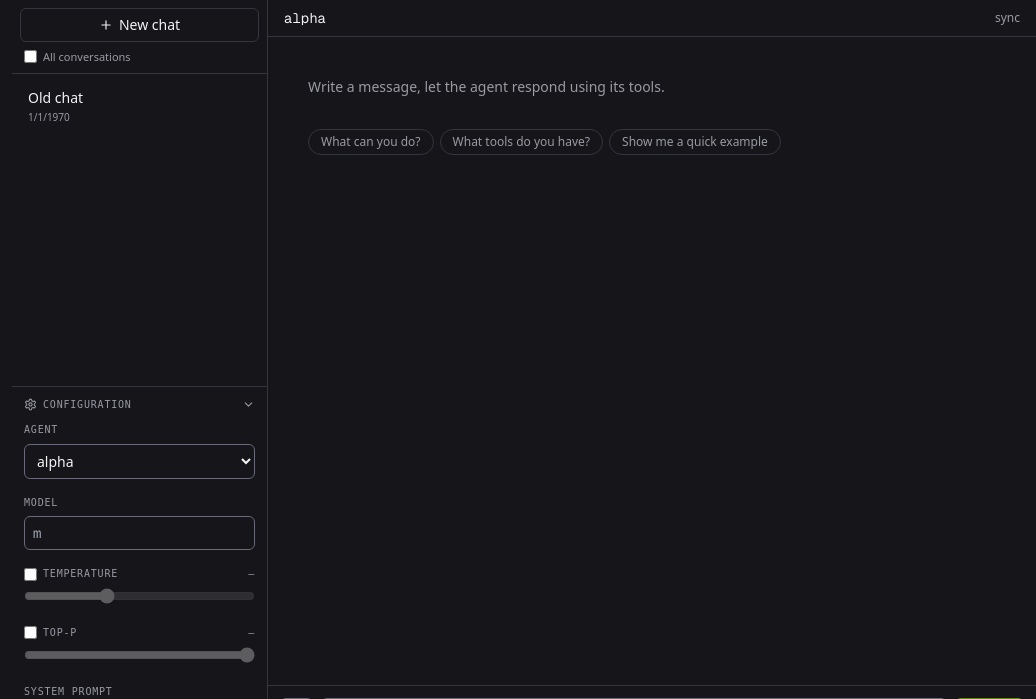
it: studio-ui components › Playground: the transcript renders unconditionally visible (no motion-gated opacity)
The width and height of the screenshot is (1036, 699).
What coordinates should you click on to do the following:
click the text "Old chat"
I would click on:
 (56, 98)
Its box is [28,88,83,107].
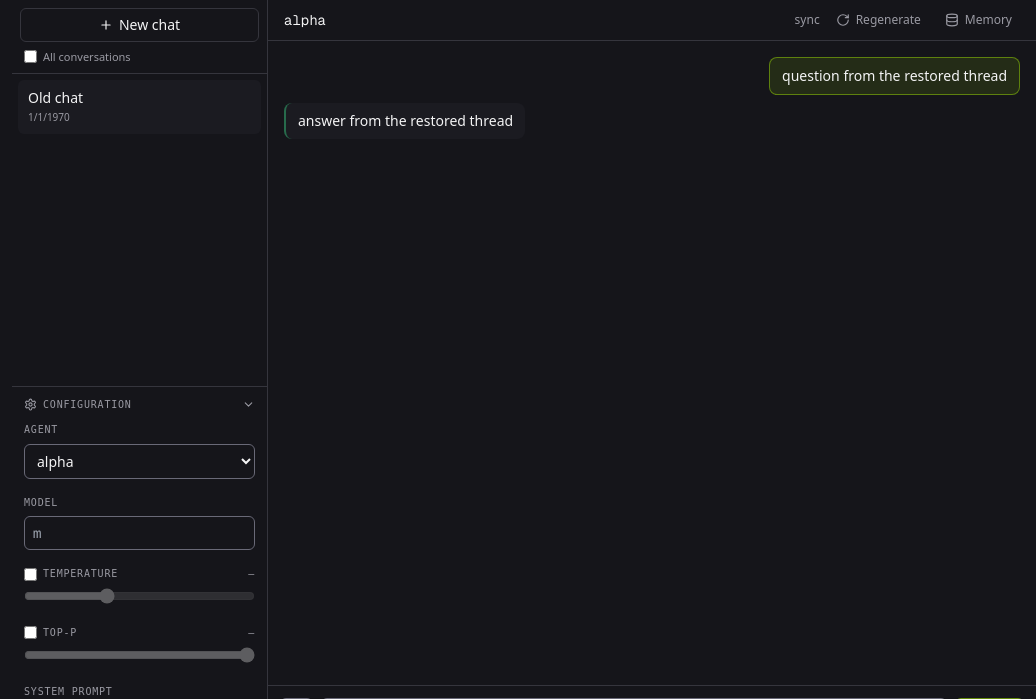
Check: the element with class "overflow-auto" that starts with "question from the restored thread" is shown, box [284,57,1020,139]
Check: the text "question from the restored thread" is shown, box [769,57,1020,95]
Check: the text "answer from the restored thread" is shown, box [298,111,513,131]
